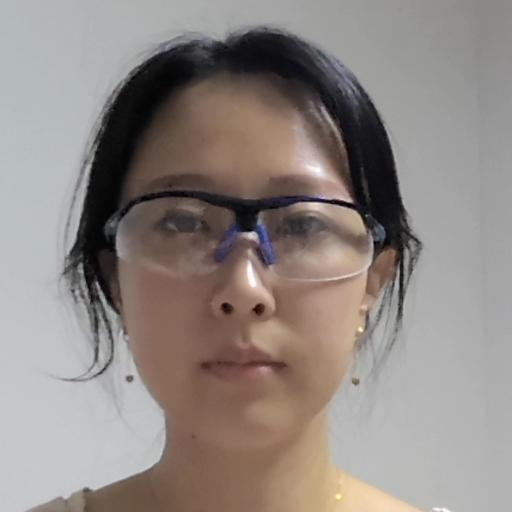glasses: (71, 31, 410, 464)
